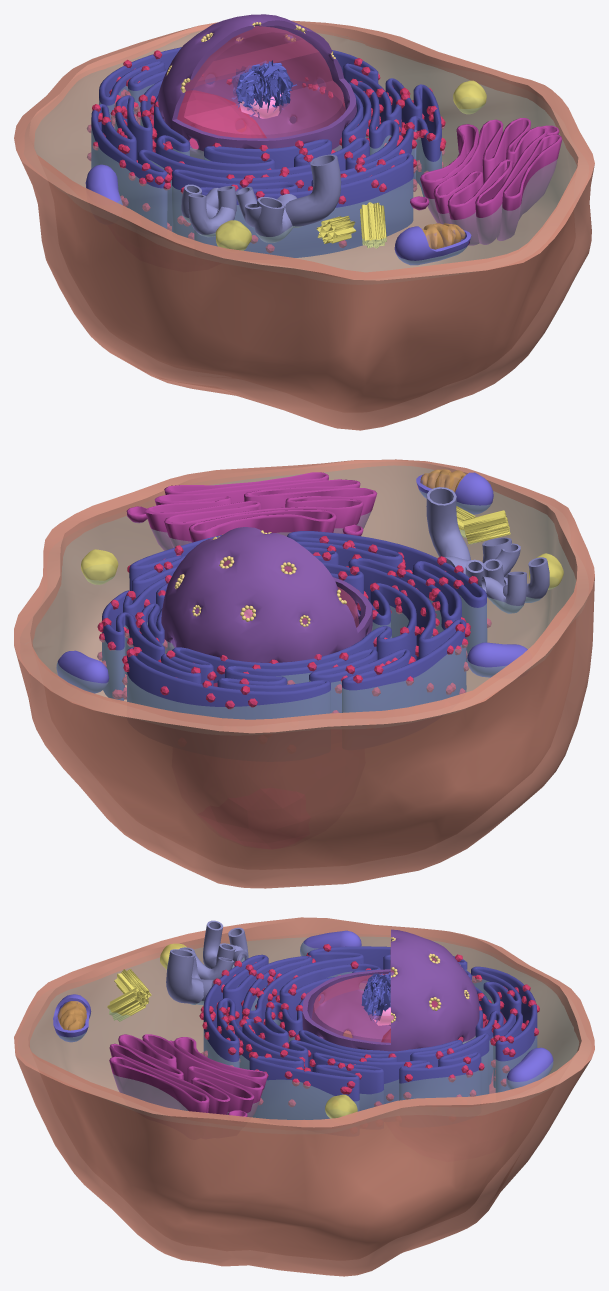
Rendered from cell.glb.
3 renders of one model, top to bottom at view 1: azimuth 30°, elevation 25°; view 2: azimuth 150°, elevation 25°; view 3: azimuth 270°, elevation 25°, orthographic. The views are drawn at different scales.
Parts seen in each view (by area): view 1: membrane, rough_er, cytoplasm, nucleus, golgi, nucleoplasm, ribosomes, smooth_er, lysosomes, nucleolus, mito, centrioles (+1 smaller); view 2: membrane, rough_er, cytoplasm, nucleus, golgi, ribosomes, smooth_er, mito, lysosomes, centrioles, pores, cristae; view 3: membrane, rough_er, cytoplasm, nucleus, golgi, ribosomes, smooth_er, nucleoplasm, mito, lysosomes, nucleolus, centrioles (+1 smaller).
Boxes of the visible parts, x1,y1,x2,y2 form: membrane: (14, 20, 594, 430); rough_er: (91, 47, 441, 257); cytoplasm: (34, 30, 576, 272); nucleus: (158, 14, 356, 159); golgi: (410, 118, 562, 245); nucleoplasm: (177, 26, 345, 138); ribosomes: (87, 50, 446, 252); smooth_er: (181, 154, 341, 242); lysosomes: (215, 80, 486, 250); nucleolus: (231, 60, 296, 118); mito: (85, 35, 471, 265); centrioles: (316, 202, 386, 248); membrane: (14, 459, 594, 888); rough_er: (102, 531, 487, 719); cytoplasm: (26, 465, 576, 719); nucleus: (161, 527, 372, 662); golgi: (126, 472, 377, 550); ribosomes: (97, 536, 491, 848); smooth_er: (426, 487, 549, 613); mito: (56, 472, 527, 693); lysosomes: (81, 510, 563, 589); centrioles: (456, 506, 510, 544); pores: (174, 530, 346, 626); cristae: (420, 469, 465, 492); membrane: (14, 917, 594, 1276); rough_er: (203, 946, 537, 1119); cytoplasm: (30, 936, 579, 1119); nucleus: (302, 929, 479, 1051); golgi: (109, 1034, 267, 1117); ribosomes: (199, 944, 539, 1107); smooth_er: (166, 920, 248, 1004); nucleoplasm: (312, 942, 466, 1042); mito: (53, 930, 553, 1089); lysosomes: (107, 943, 357, 1118); nucleolus: (361, 972, 393, 1025); centrioles: (107, 969, 151, 1021).
Bounding box in the file's own units: 5.96 × 3.98 × 7.04.
